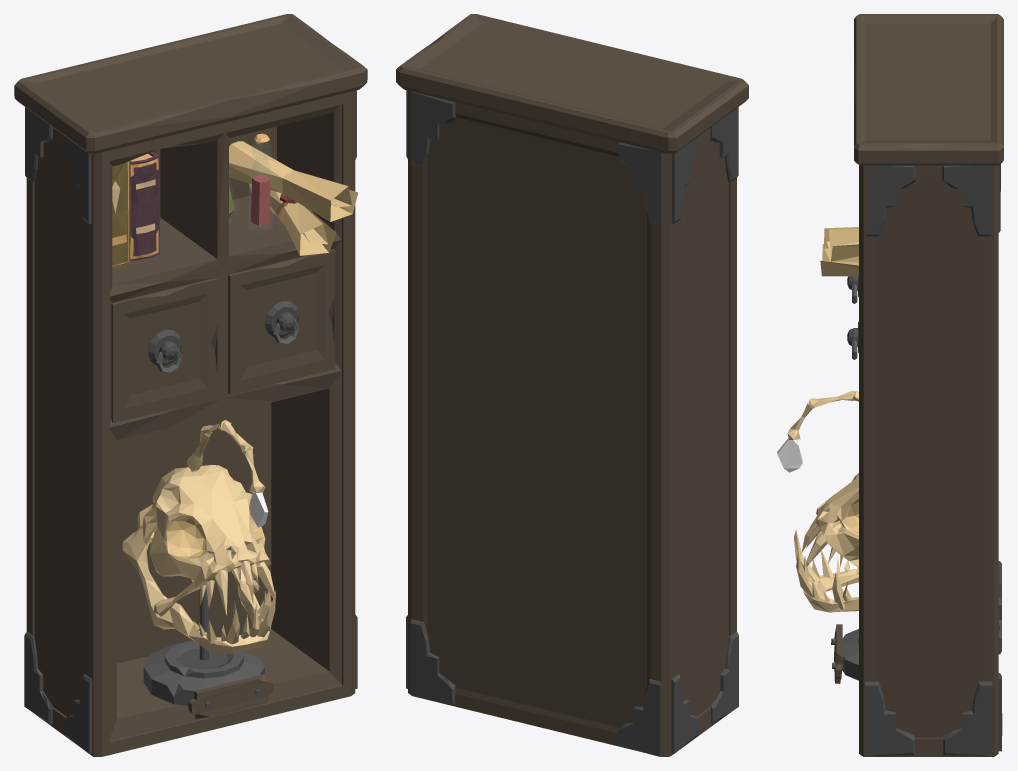
File: Shelving_019.fbx
3 views of the same model, side by side, from view 1: azimuth 30°, elevation 25°; view 2: azimuth 150°, elevation 25°; view 3: azimuth 270°, elevation 25° (orthographic). The views are drawn at different scales.
Visible parts, largest first — view 1: Shelving_019; view 2: Shelving_019; view 3: Shelving_019.
Boxes of the visible parts, x1,y1,x2,y2 form: Shelving_019: [14, 14, 367, 756]; Shelving_019: [396, 14, 748, 756]; Shelving_019: [777, 14, 1003, 756].
Size of the model in its own units: 0.5786 by 1.23 by 0.4124.
